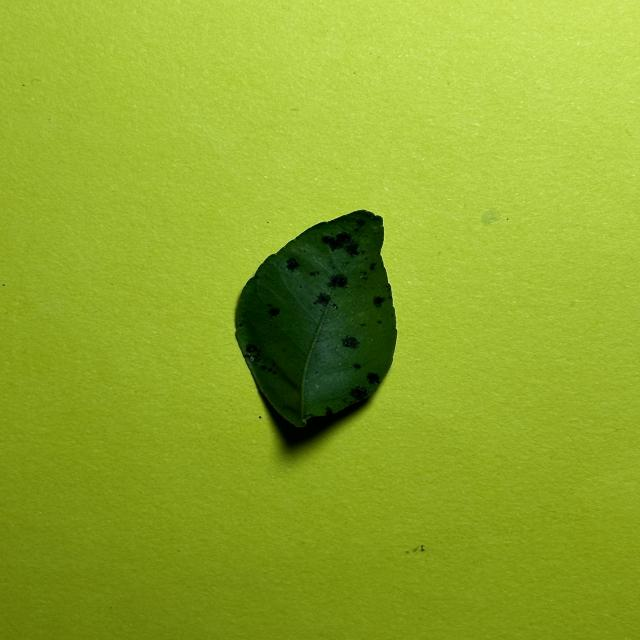sooty_mold: (236, 210, 396, 427)
